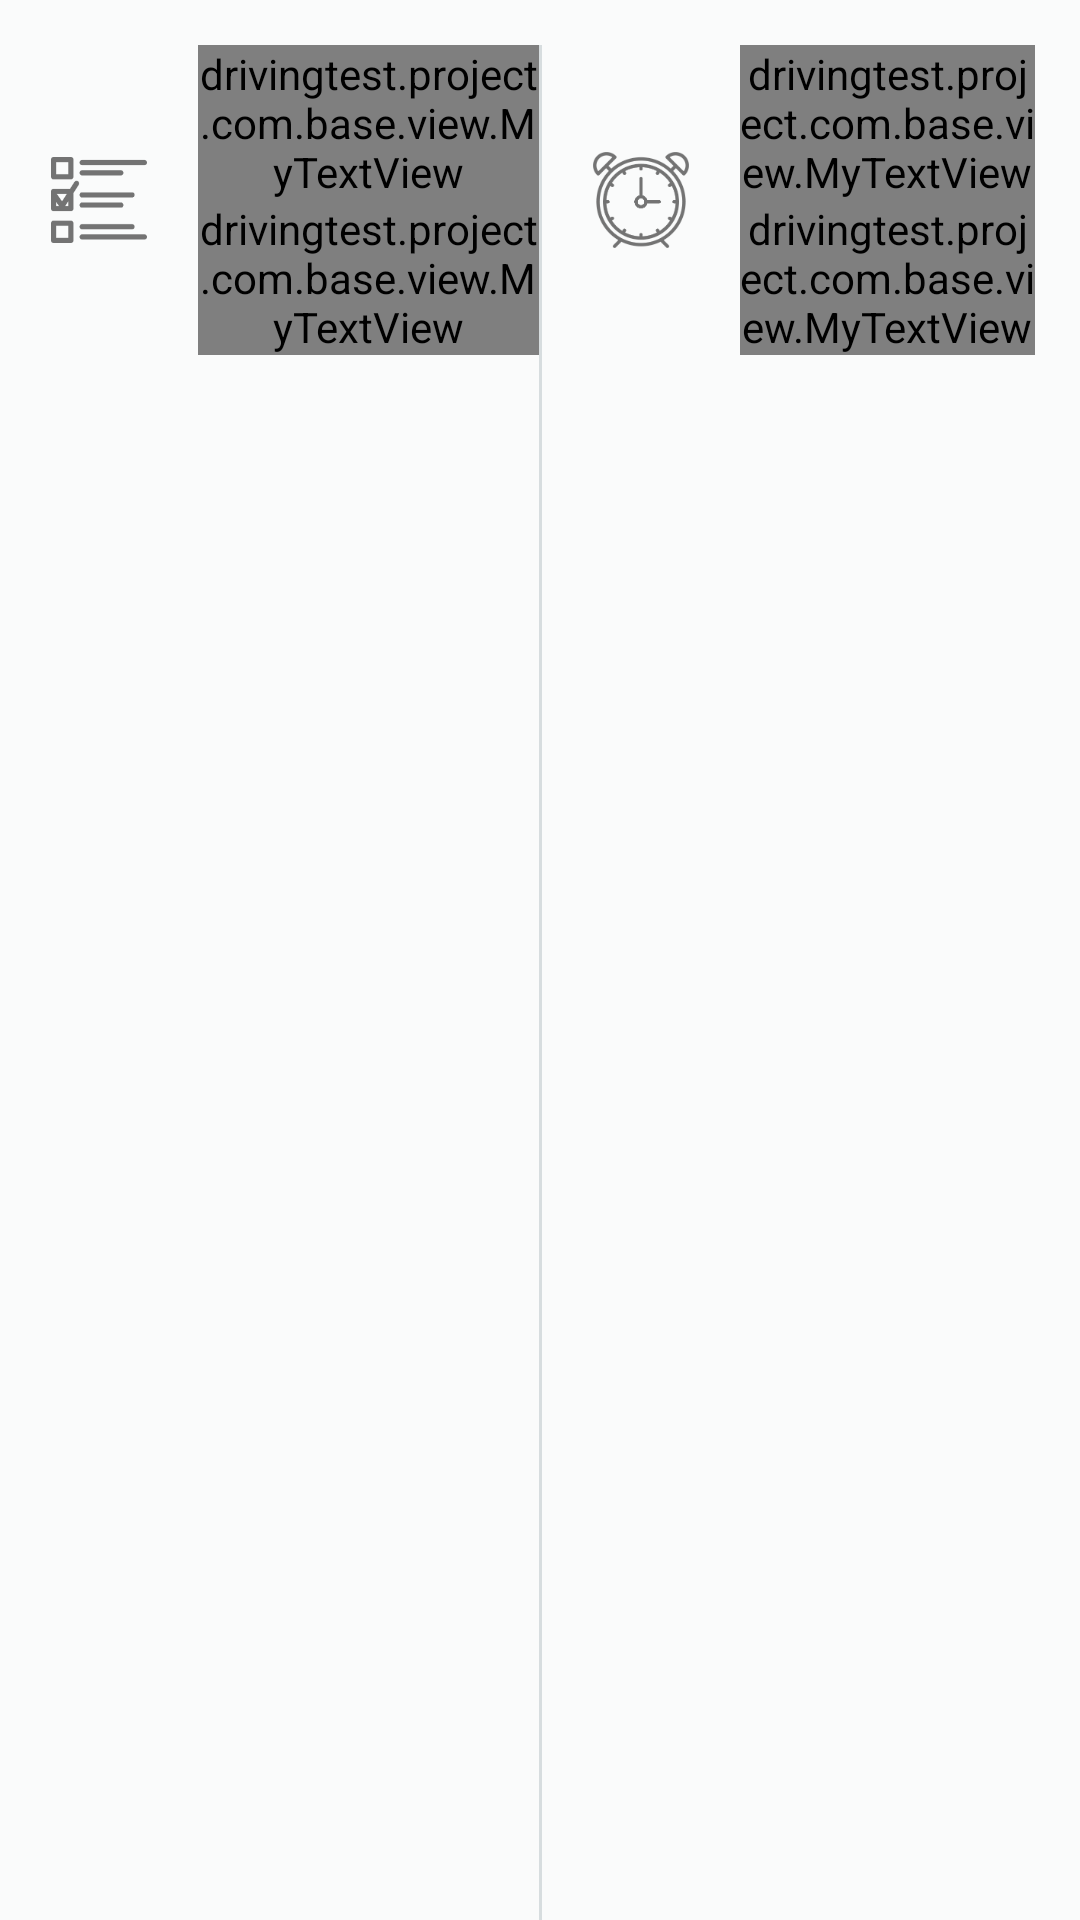

Screen size 1080px x 1920px. Icon name, then its center in pixels as [x,y]:
alarm clock: [641,200]
